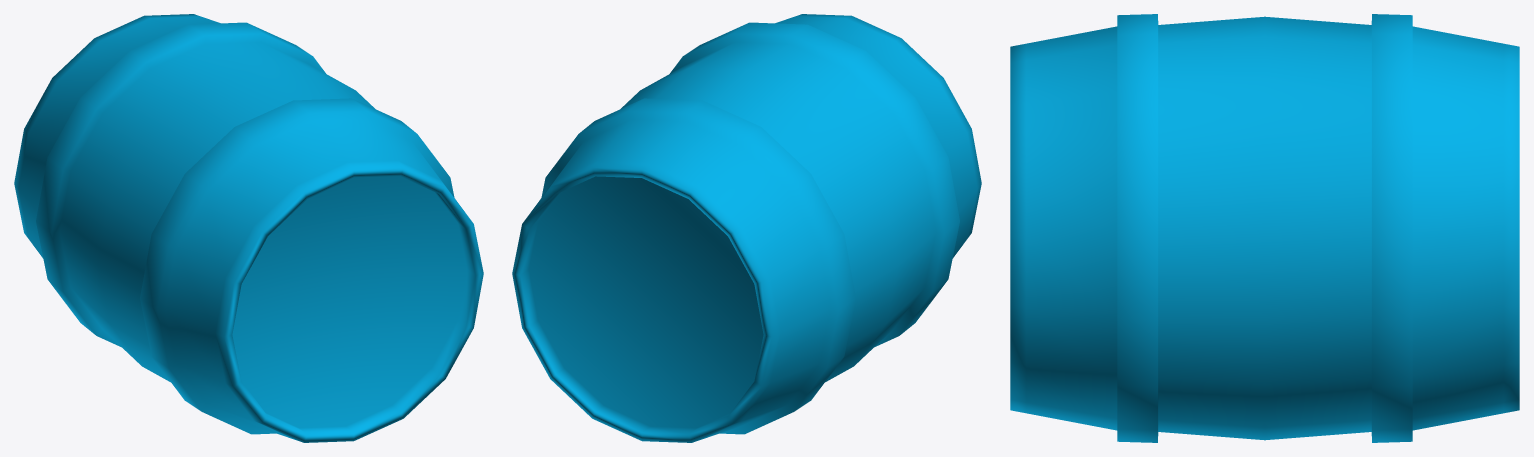
File: Barrel_03.fbx
The picture shows the model from 3 angles, left to right: view 1: azimuth 30°, elevation 25°; view 2: azimuth 150°, elevation 25°; view 3: azimuth 270°, elevation 25°; orthographic projection. The views are drawn at different scales.
Visible parts, largest first — view 1: Barrel_03; view 2: Barrel_03; view 3: Barrel_03.
Boxes of the visible parts, <box> form: Barrel_03: <box>14,14,483,442</box>; Barrel_03: <box>512,14,981,442</box>; Barrel_03: <box>1010,14,1519,442</box>.
Size of the model in its own units: 121 by 121 by 143.
